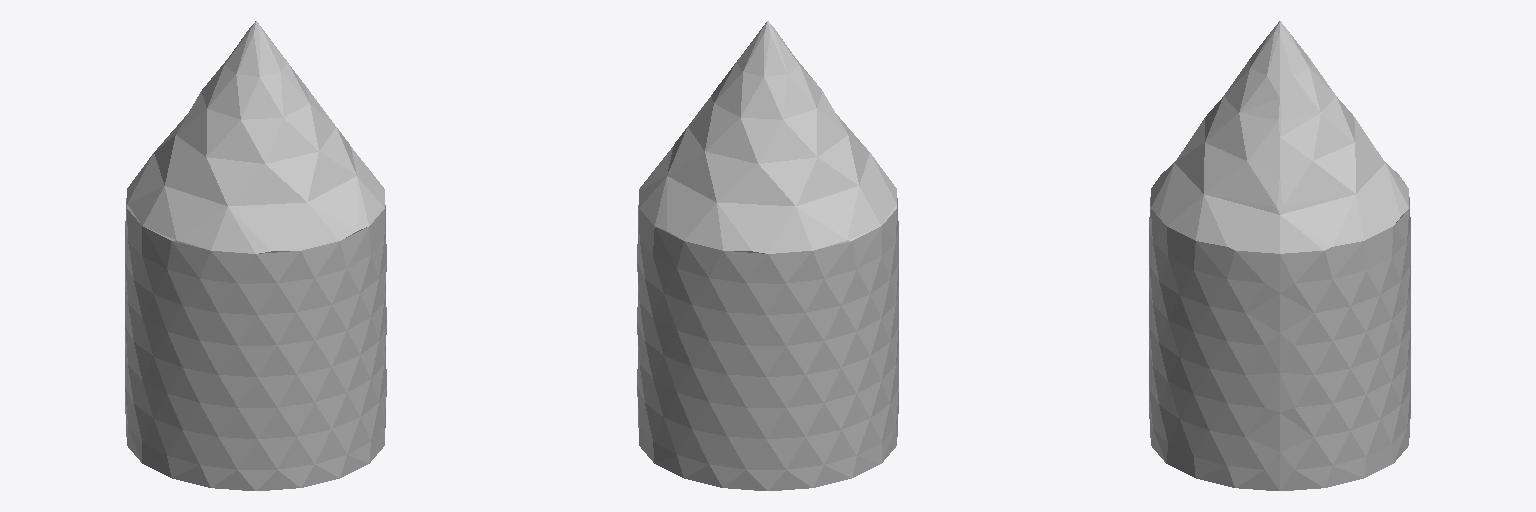
The robot description file, URDF, robot "rocket":
<?xml version="1.0" encoding="utf-8"?>
<robot name="rocket">
  <link concave="yes" name="base_link0">
    <contact>
      <rolling_friction value="2"/>
      <spinning_friction value="2"/>
      <lateral_friction value="2"/>
      <contact_cfm value="0.0"/>
      <contact_erp value="1.0"/>
      <restitution value = "0.0"/>
    </contact>
    <inertial>
      <origin rpy="0 0 0" xyz="0 0 0"/>
      <mass value="250"/>
      <inertia ixx="0.000055524" ixy="0" ixz="0" iyy="0.000055524" iyz="0" izz="0.000055524"/>
    </inertial>
    <visual>
      <geometry>
        <mesh filename="rocket.obj"/>
      </geometry>
      <material name="basemat">
        <color rgba="0.8 0.8 0.8 1"/>
      </material>
    </visual>

    <collision concave="yes">
      <geometry>
        <mesh filename="rocket.obj"/>
      </geometry>
    </collision>
  </link>

</robot>

--- Facts derived from the render (not from the file) ---
3 views of the same robot in one strip: view 1: azimuth 30°, elevation 25°; view 2: azimuth 150°, elevation 25°; view 3: azimuth 270°, elevation 25° (orthographic).
Robot: rocket — 1 links, 0 joints (none); root link base_link0; default pose: all joints at 0.
Visible links, largest first — view 1: base_link0; view 2: base_link0; view 3: base_link0.
Boxes of the visible links, left/top/right/bottom form: base_link0: left=125, top=21, right=386, bottom=490; base_link0: left=637, top=21, right=898, bottom=490; base_link0: left=1149, top=21, right=1410, bottom=490.
Size in the robot's own frame: 2000 by 1997 by 3500 metres.
1 mesh visuals loaded from 1 distinct referenced files (1 OBJ).
